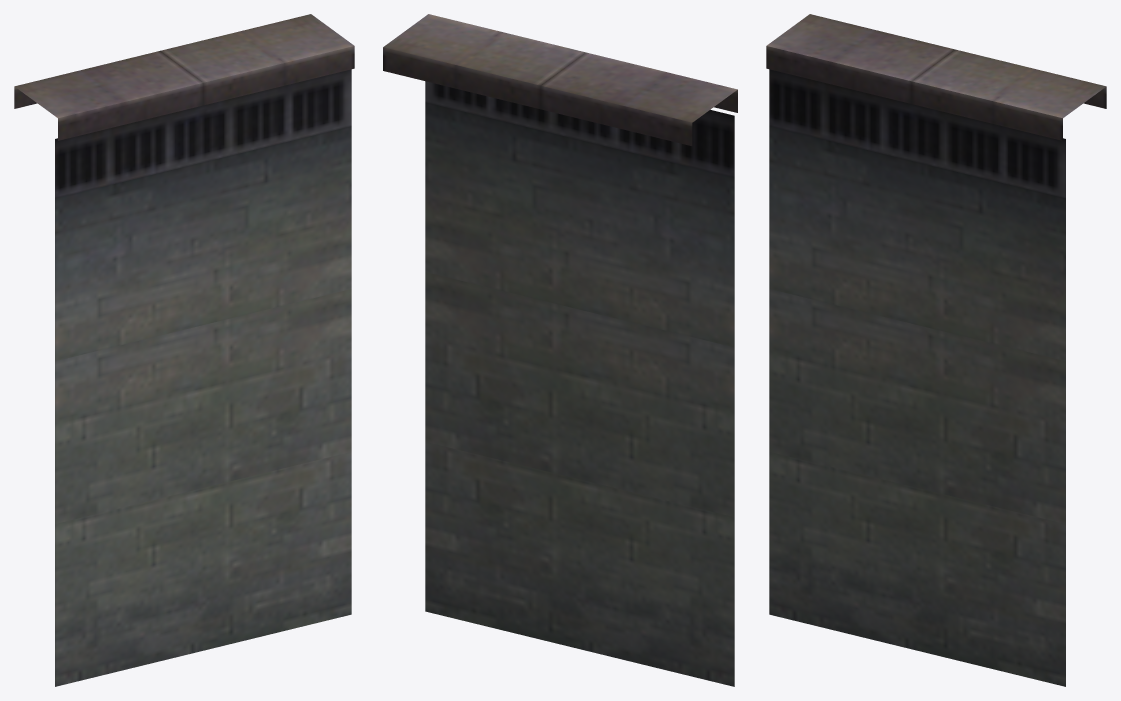
Rendered from zc_lekesigang_pinjieqiang01.FBX.
3 views of the same model, side by side, from view 1: azimuth 30°, elevation 25°; view 2: azimuth 150°, elevation 25°; view 3: azimuth 330°, elevation 25° (orthographic). The views are drawn at different scales.
Parts seen in each view (by area): view 1: zc_lekesigang_pinjieqiang01; view 2: zc_lekesigang_pinjieqiang01; view 3: zc_lekesigang_pinjieqiang01.
Part boxes in pixels (x1=…): zc_lekesigang_pinjieqiang01: x1=14, y1=14, x2=354, y2=686; zc_lekesigang_pinjieqiang01: x1=383, y1=14, x2=737, y2=686; zc_lekesigang_pinjieqiang01: x1=766, y1=14, x2=1106, y2=686.
Bounding box in the file's own units: 333 × 613 × 84.74.
1 material, 1 textured.
